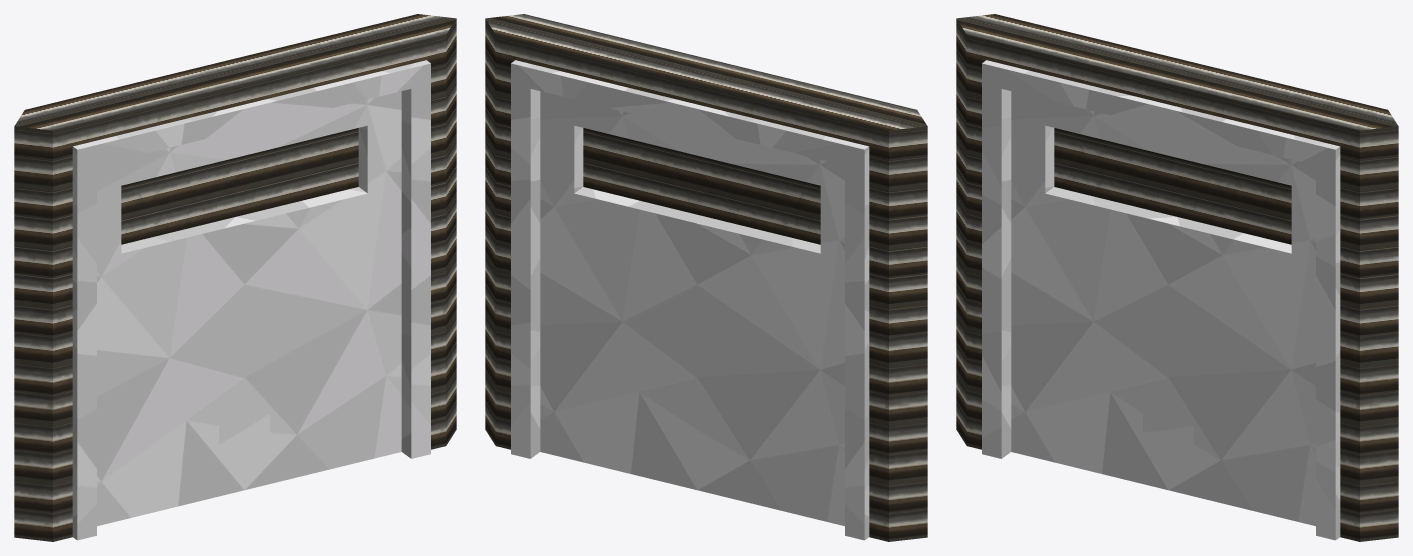
Rendered from ClosedDoor1.fbx.
The picture shows the model from 3 angles, left to right: view 1: azimuth 30°, elevation 25°; view 2: azimuth 150°, elevation 25°; view 3: azimuth 330°, elevation 25°; orthographic projection.
Parts seen in each view (by area): view 1: wall_garageDoorClosed_98; view 2: wall_garageDoorClosed_98; view 3: wall_garageDoorClosed_98.
Boxes of the visible parts, x1,y1,x2,y2 form: wall_garageDoorClosed_98: (14, 14, 456, 541); wall_garageDoorClosed_98: (485, 14, 927, 541); wall_garageDoorClosed_98: (956, 14, 1398, 541).
Bounding box in the file's own units: 11.25 × 10 × 1.65.
3 materials, 3 textured.
